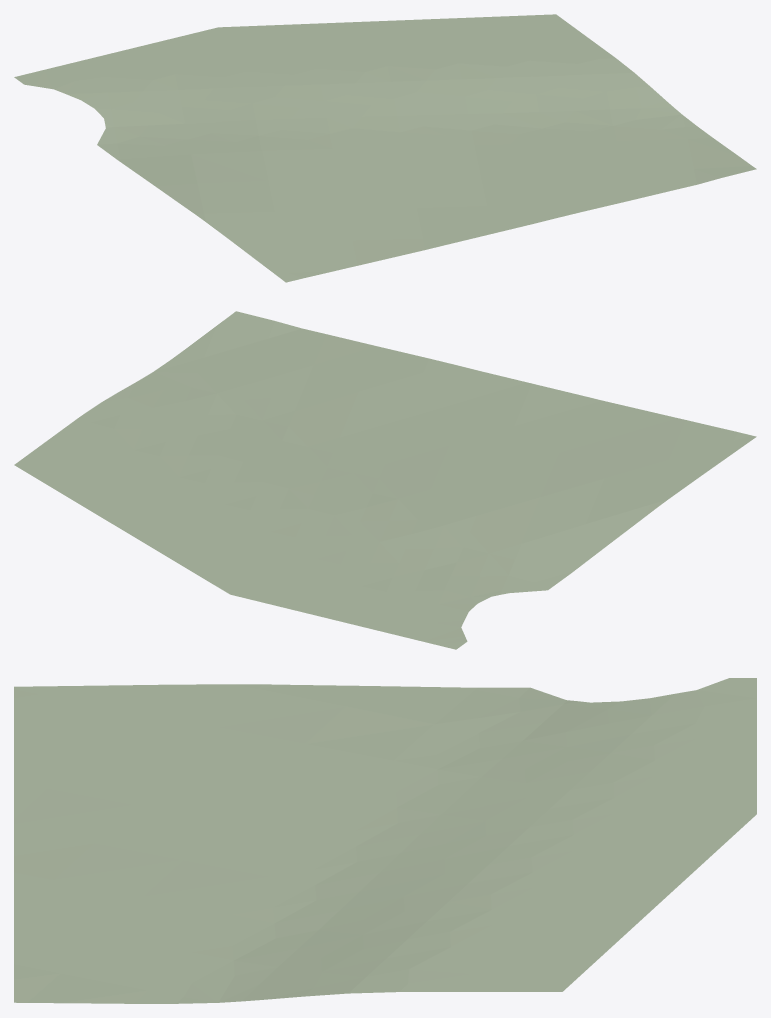
The model's file is SM_MPRR_Terrain_3_2.fbx.
3 renders of one model, top to bottom at view 1: azimuth 30°, elevation 25°; view 2: azimuth 150°, elevation 25°; view 3: azimuth 270°, elevation 25°, orthographic. The views are drawn at different scales.
Parts seen in each view (by area): view 1: SM_MPRR_Terrain_3_2; view 2: SM_MPRR_Terrain_3_2; view 3: SM_MPRR_Terrain_3_2.
Part boxes in pixels (<box>): SM_MPRR_Terrain_3_2: <box>14,14,756,282</box>; SM_MPRR_Terrain_3_2: <box>14,311,756,649</box>; SM_MPRR_Terrain_3_2: <box>14,678,756,1003</box>.
Bounding box in the file's own units: 15000 × 15000 × 270.
